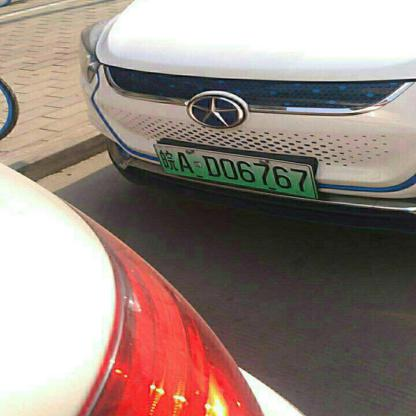lp: (152, 144, 317, 199)
